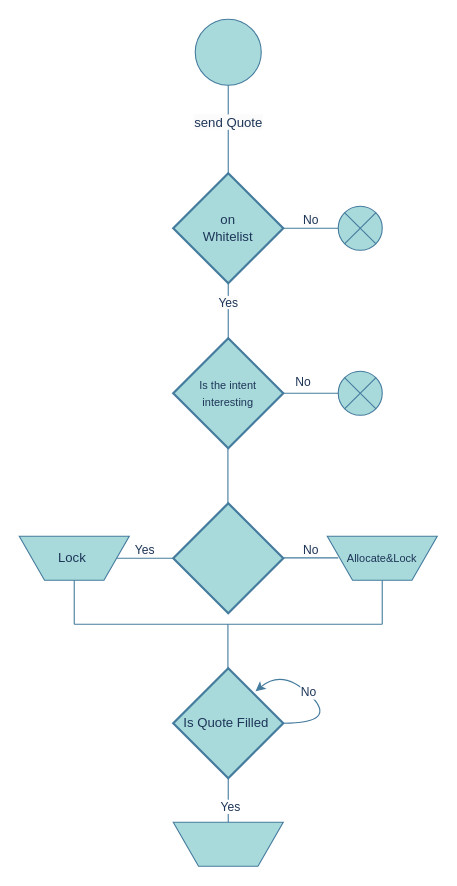
The diagram is 457 pixels wide and 886 high, and some of its shapes have lost their labels. Each missing label, with the centre of its shape:
"enough allocated balance" belongs at point (228, 558).
"OpenPosition" belongs at point (227, 843).
